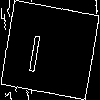I: (24, 24, 46, 73)
